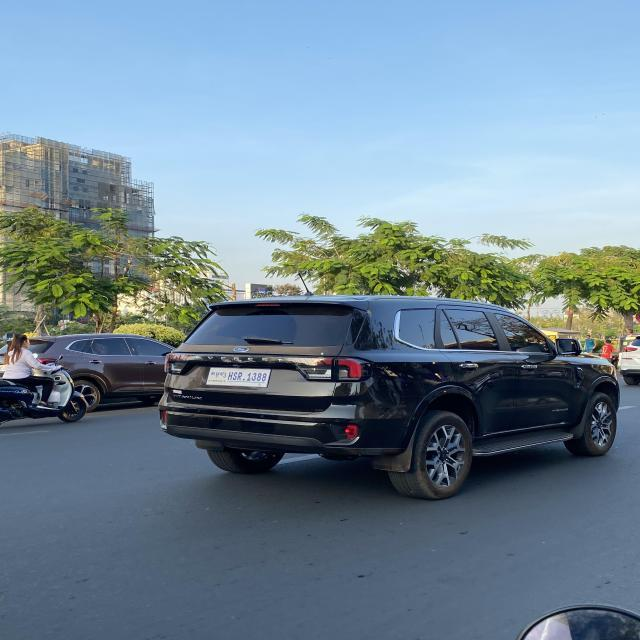Cambodia: (211, 371, 228, 378)
